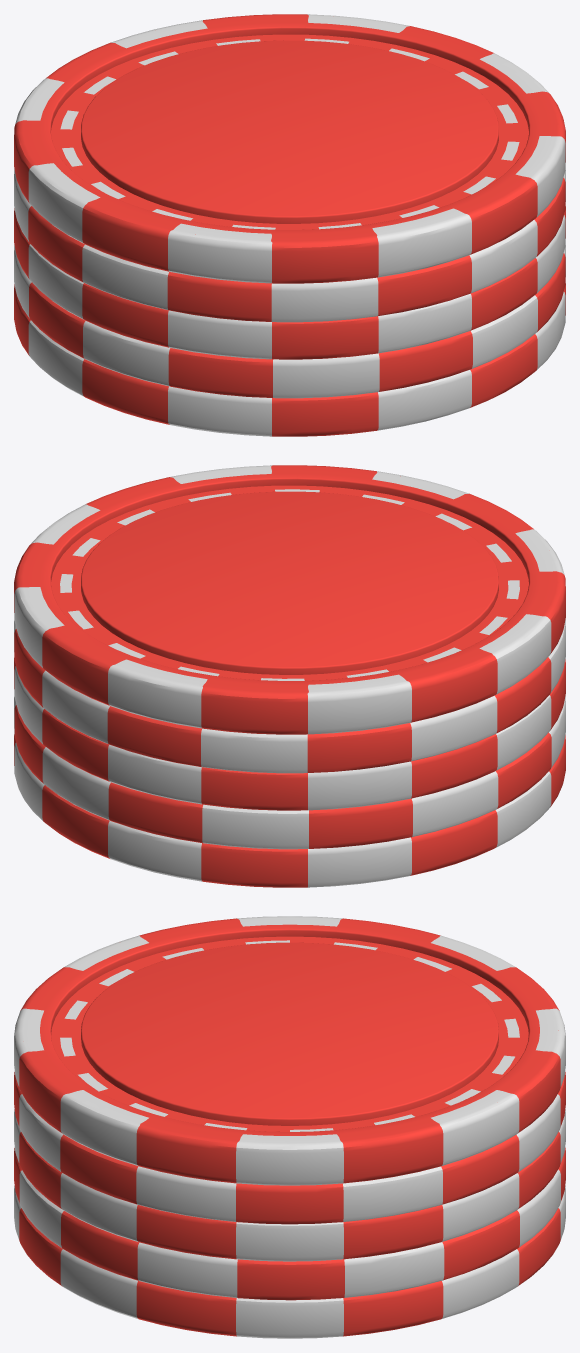
The model's file is Red Stack.fbx.
3 renders of one model, top to bottom at view 1: azimuth 30°, elevation 25°; view 2: azimuth 150°, elevation 25°; view 3: azimuth 270°, elevation 25°, orthographic.
Parts seen in each view (by area): view 1: Chip.018, Chip.017, Chip.014, Chip.013, Chip.016; view 2: Chip.018, Chip.017, Chip.014, Chip.013, Chip.016; view 3: Chip.018, Chip.017, Chip.014, Chip.013, Chip.016.
Part boxes in pixels (x1,y1,x2,y2): Chip.018: (14,14,565,283); Chip.017: (14,169,565,322); Chip.014: (14,245,565,398); Chip.013: (14,283,565,436); Chip.016: (14,206,565,359); Chip.018: (14,465,565,734); Chip.017: (14,620,565,773); Chip.014: (14,696,565,849); Chip.013: (14,734,565,887); Chip.016: (14,658,565,810); Chip.018: (14,916,565,1185); Chip.017: (14,1072,565,1224); Chip.014: (14,1147,565,1300); Chip.013: (14,1186,565,1338); Chip.016: (14,1109,565,1261).
Bounding box in the file's own units: 8.02 × 3.12 × 8.02.
